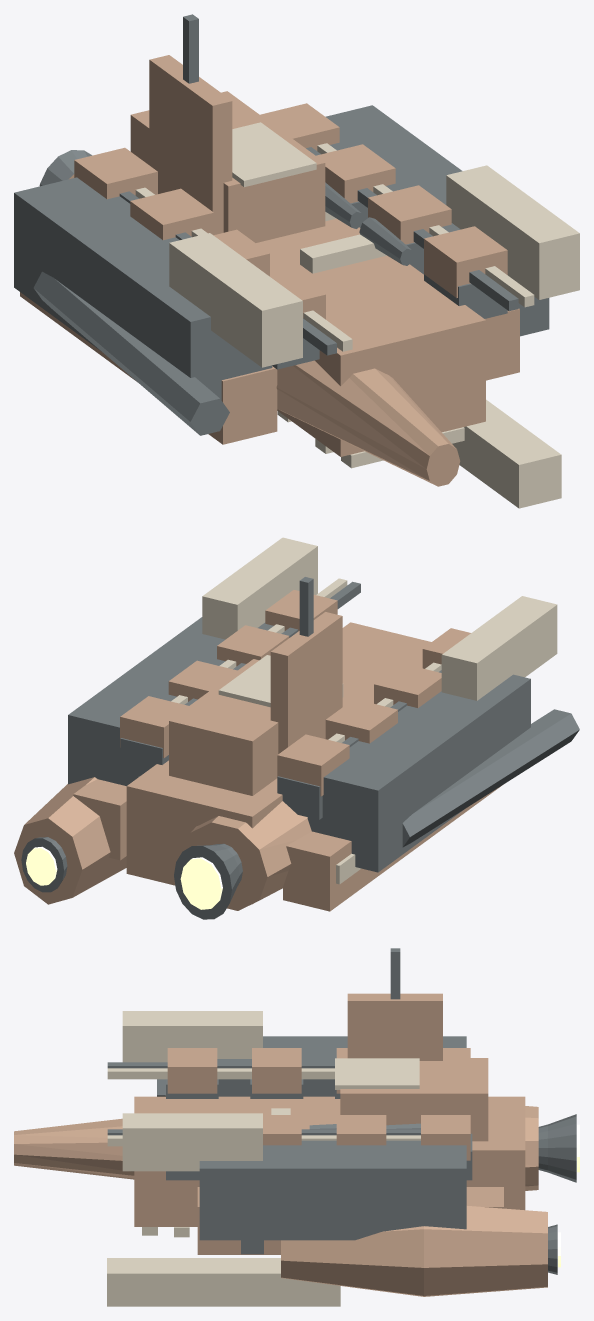
The picture shows the model from 3 angles, top to bottom: view 1: azimuth 30°, elevation 25°; view 2: azimuth 150°, elevation 25°; view 3: azimuth 270°, elevation 25°; orthographic projection. The views are drawn at different scales.
Bounding box in the file's own units: 13.39 × 12.13 × 21.42.
